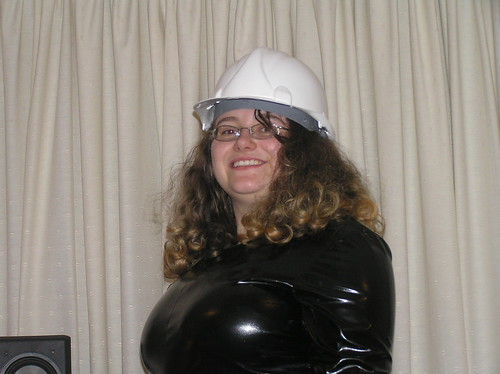person hardhat: (144, 47, 407, 374)
